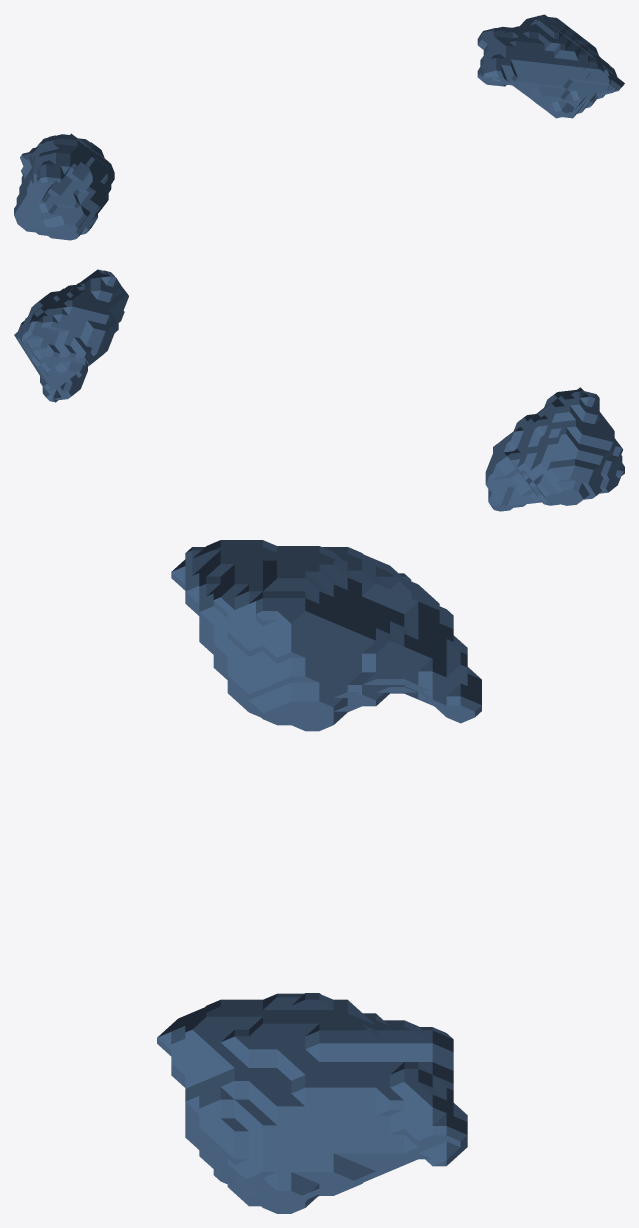
Rendered from region_0123_PSm__magnocellular_superficial_pretectal_nucleus_.glb.
The picture shows the model from 3 angles, top to bottom: view 1: azimuth 30°, elevation 25°; view 2: azimuth 150°, elevation 25°; view 3: azimuth 270°, elevation 25°; orthographic projection. The views are drawn at different scales.
Visible parts, largest first — view 1: world; view 2: world; view 3: world.
Part boxes in pixels (box(x1,y1,x2,y2)): world: box(14, 14, 624, 240); world: box(14, 269, 624, 511); world: box(157, 540, 481, 1213).
Size of the model in its own units: 0.776 by 0.12 by 0.184.
